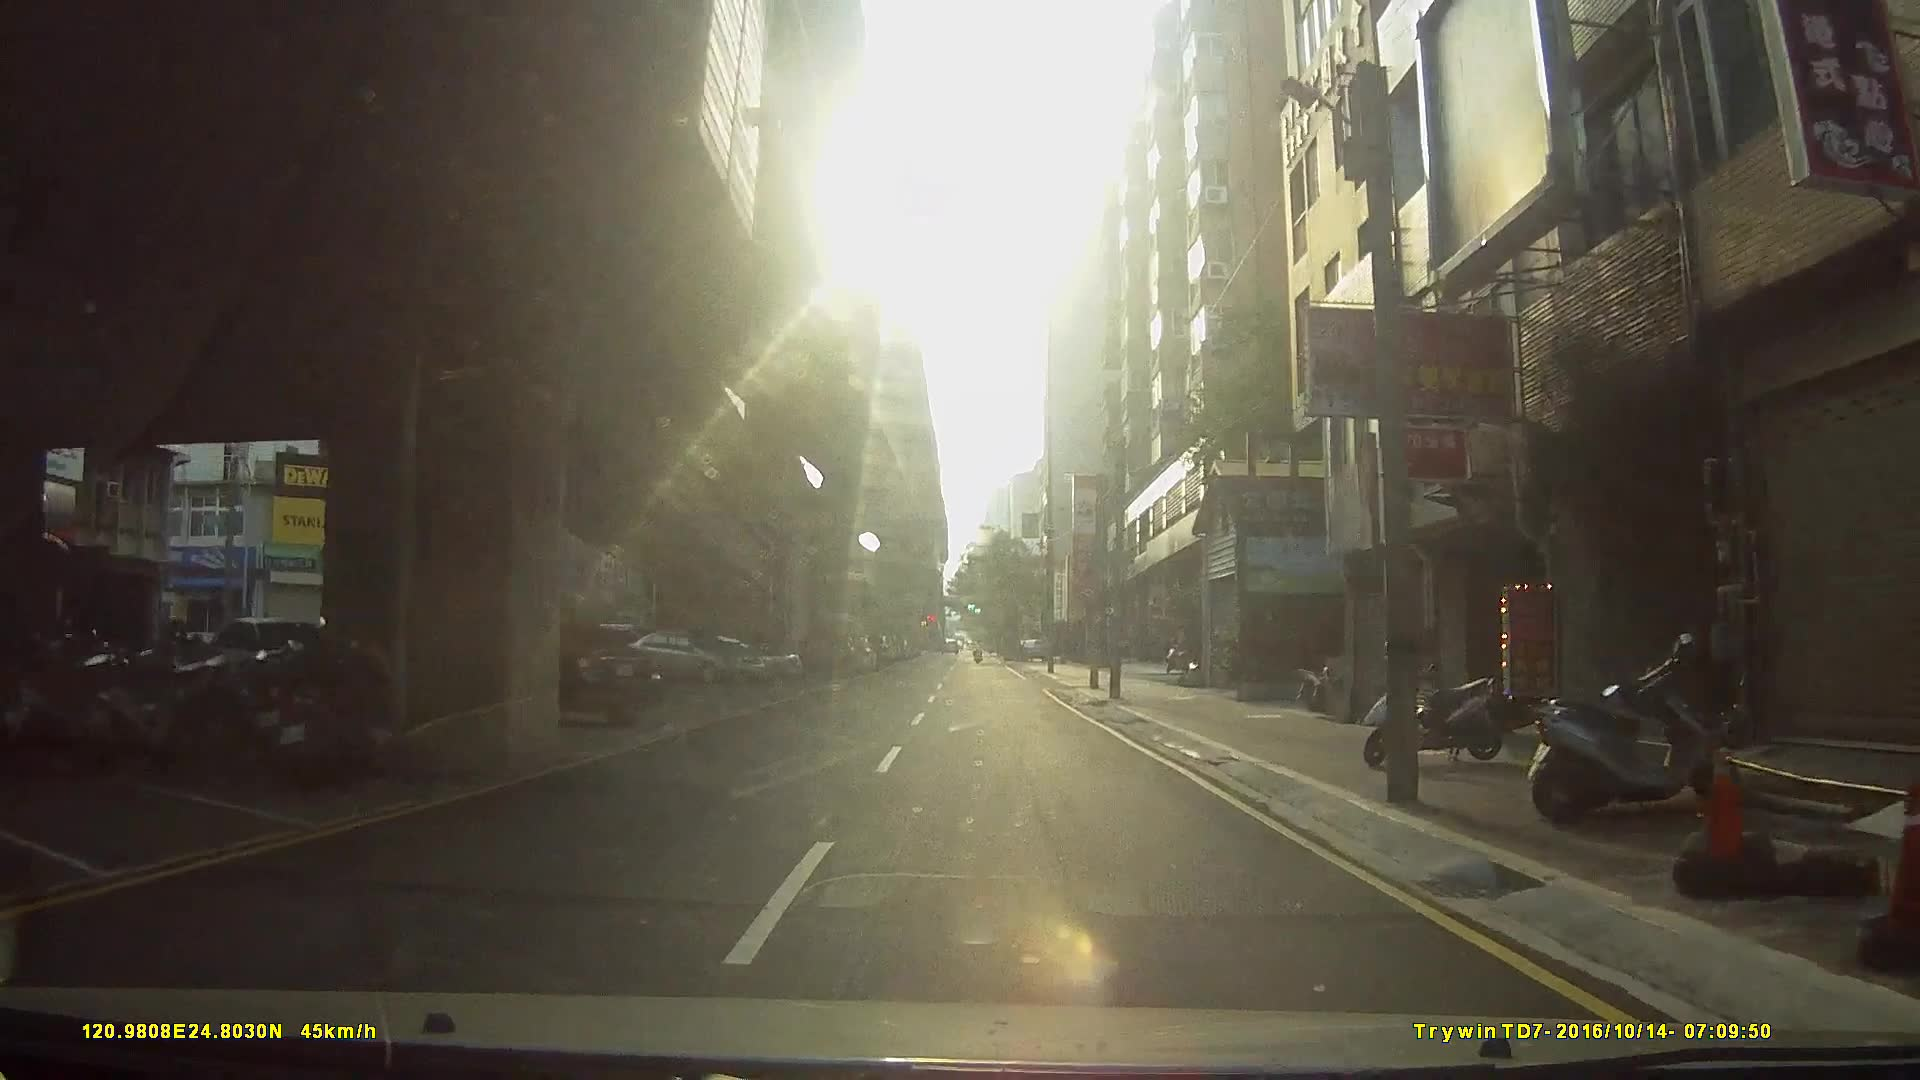vehicle: (476, 620, 662, 723), (620, 626, 769, 684)
